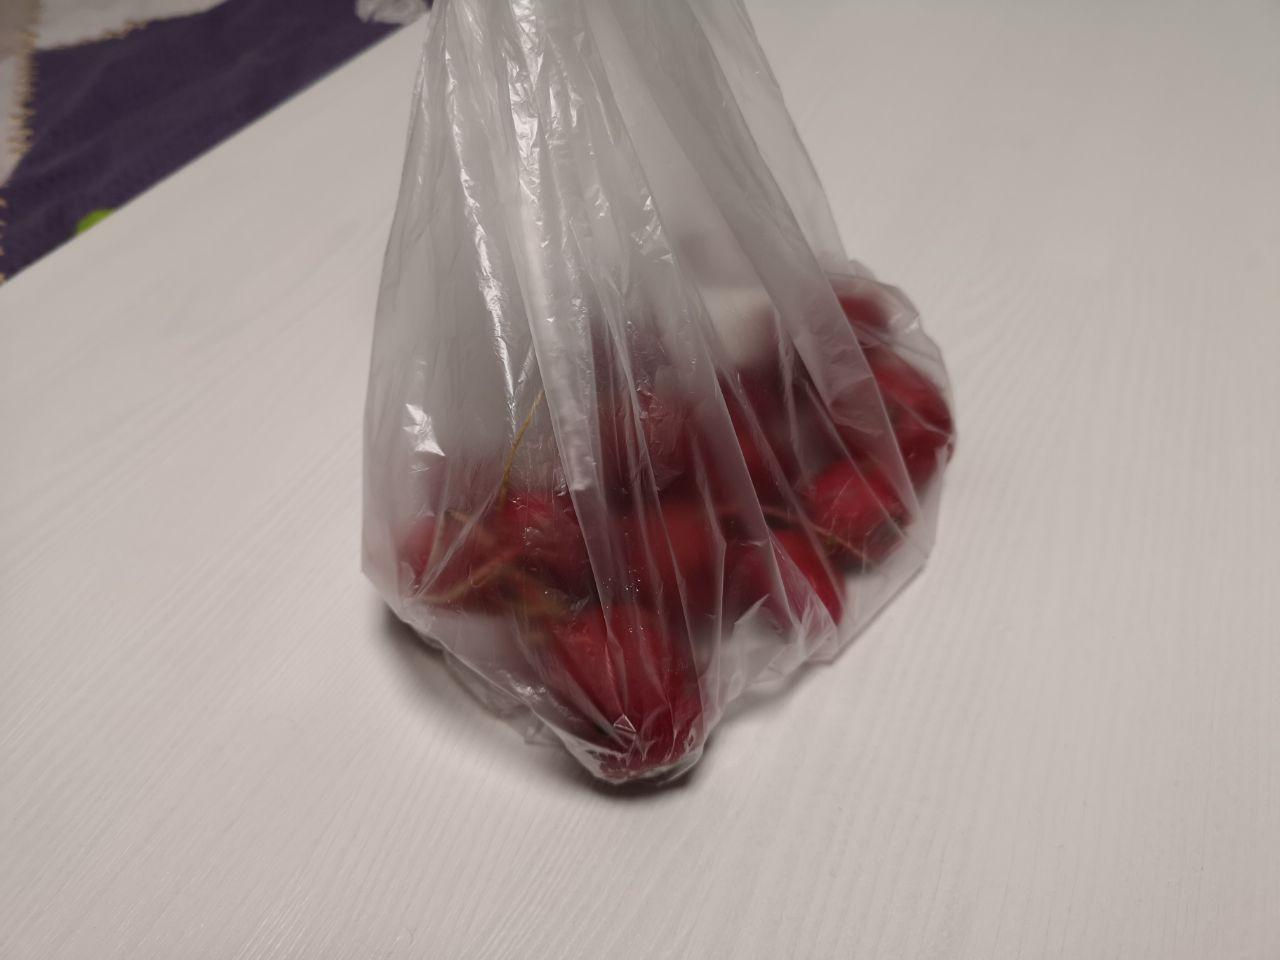redish: (328, 199, 1001, 839)
